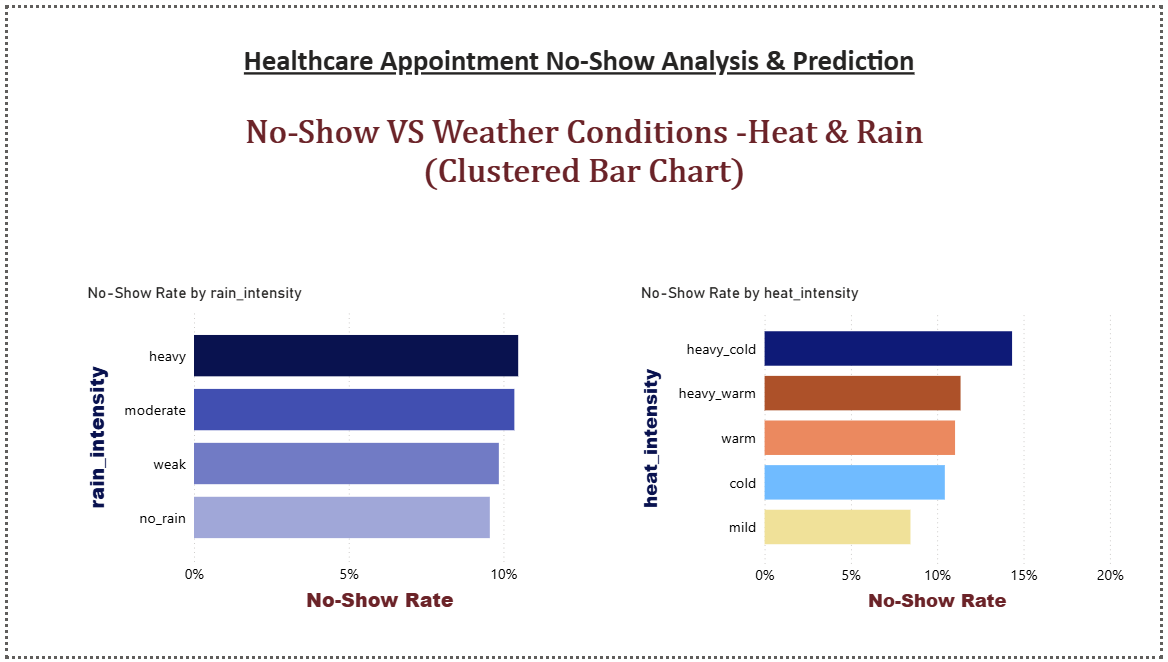

The page's visual inventory and layout, read from the dashboard file:
{"tool":"powerbi","page":{"name":"no_show VS weather conditions","canvas":[1280,720],"ordinal":5},"visuals":[{"type":"clusteredBarChart","fields":{"Category":["healthcare_dataset_cleaned.rain_intensity"],"Y":["healthcare_dataset_cleaned.No-Show Rate"]},"box":[83.3,306.7,556.7,370],"z":0},{"type":"clusteredBarChart","fields":{"Y":["healthcare_dataset_cleaned.No-Show Rate"],"Category":["healthcare_dataset_cleaned.heat_intensity"]},"box":[698.3,306.7,546.7,370],"z":1000},{"type":"textbox","box":[253.3,111.7,773.3,116.7],"z":2000},{"type":"textbox","box":[256.7,33.3,765,56.7],"z":3000}]}

Visuals, with their boxes in screenshot pixels (x1, y1, x2, y2), scaled from the page's 1280x720 canvas onto the 1168x662 screenshot:
clusteredBarChart - healthcare_dataset_cleaned.rain_intensity x healthcare_dataset_cleaned.No-Show Rate: [left=76, top=282, right=584, bottom=622]
clusteredBarChart - healthcare_dataset_cleaned.No-Show Rate x healthcare_dataset_cleaned.heat_intensity: [left=637, top=282, right=1136, bottom=622]
textbox: [left=231, top=103, right=937, bottom=210]
textbox: [left=234, top=31, right=932, bottom=83]
